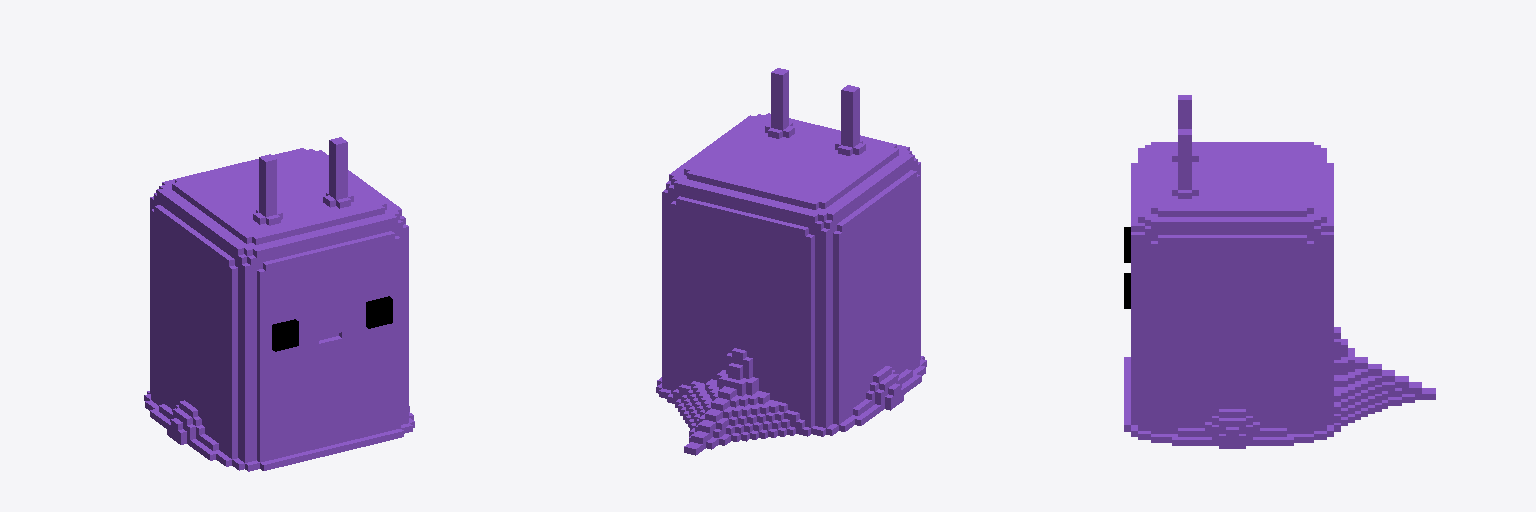
The picture shows the model from 3 angles: view 1: azimuth 30°, elevation 25°; view 2: azimuth 150°, elevation 25°; view 3: azimuth 270°, elevation 25°; orthographic projection.
Bounding box in the file's own units: 36 × 46 × 46.
1 materials, 1 textured.